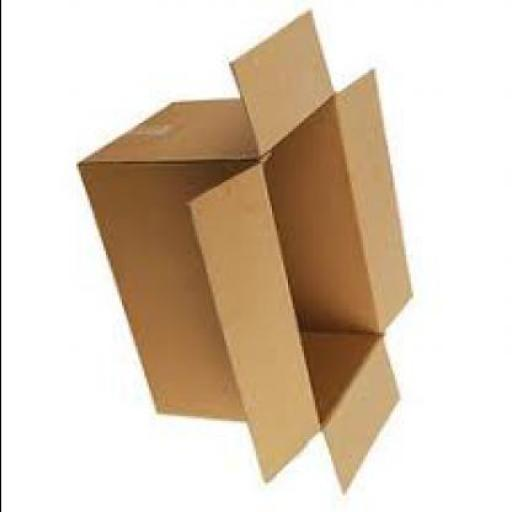cardboard: (77, 6, 419, 492)
